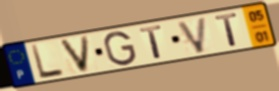G: (102, 30, 138, 67)
L: (29, 43, 67, 81)
T: (213, 11, 240, 49), (137, 24, 164, 61)
V: (57, 34, 91, 75), (175, 15, 209, 55)
